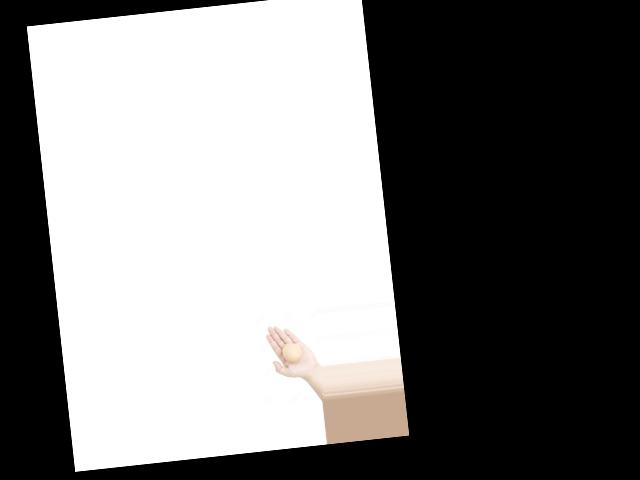egg: (282, 342, 303, 364)
